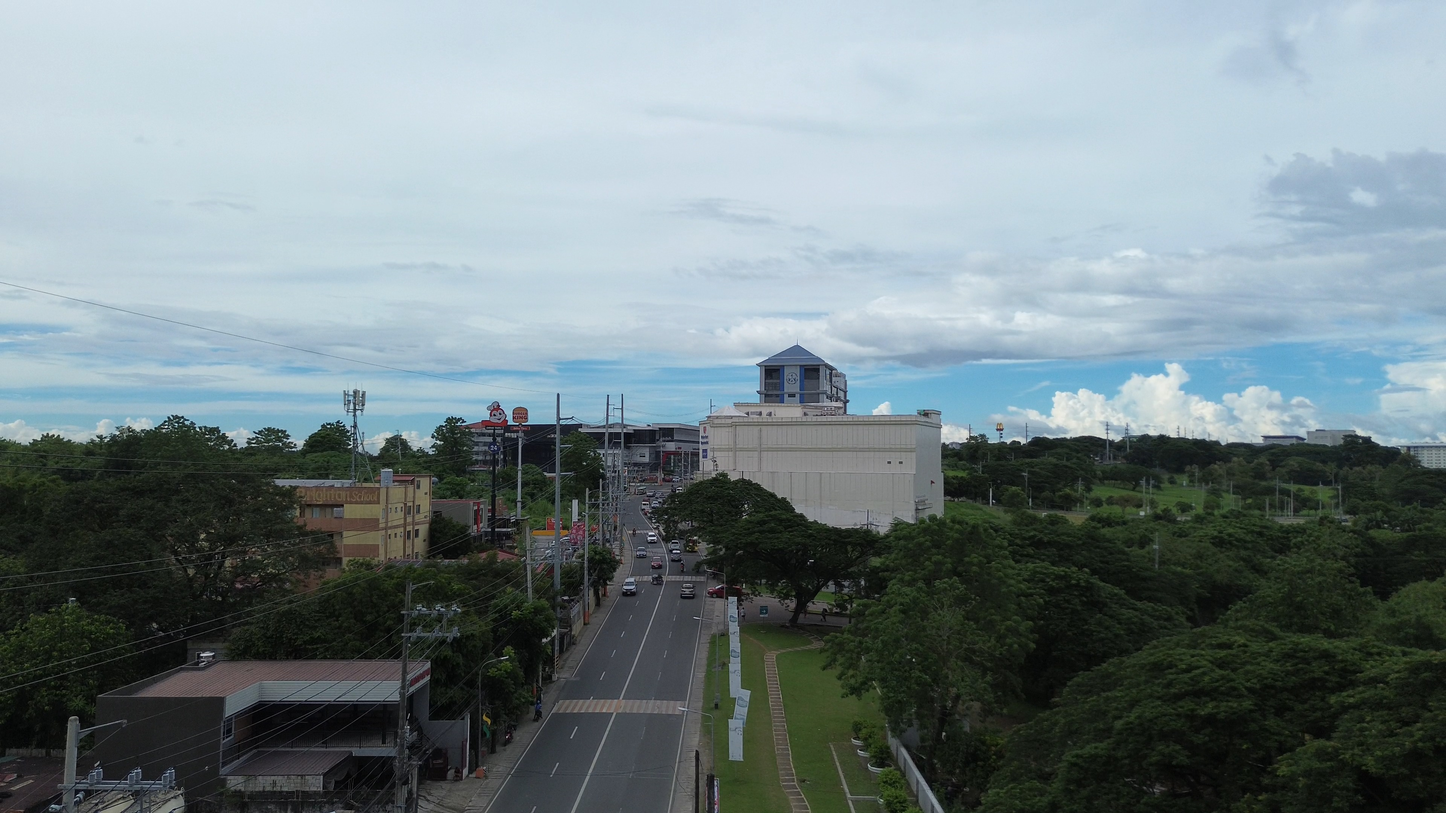car: (635, 547, 647, 557)
vehicle: (622, 578, 637, 595), (706, 585, 725, 597), (680, 583, 695, 598), (650, 557, 664, 569), (651, 573, 664, 585), (670, 549, 681, 562), (647, 531, 658, 543)
